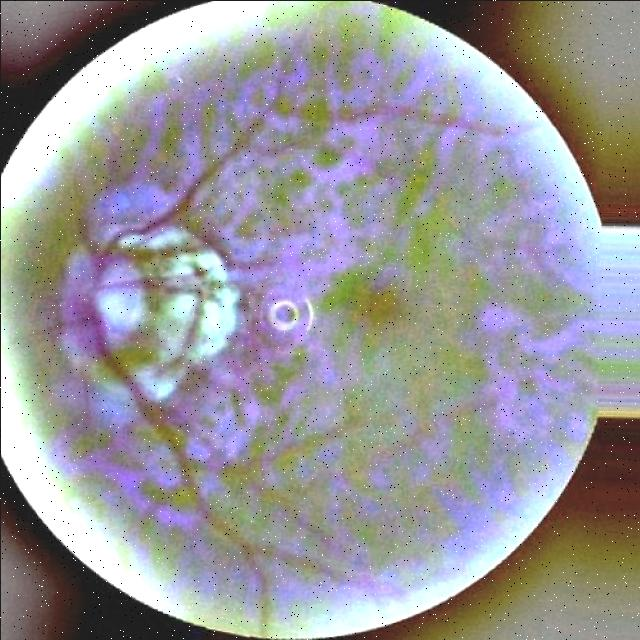Macula: (254, 285, 318, 342)
Nerves: (101, 357, 354, 601), (110, 71, 284, 243), (26, 199, 105, 352)
Optic Disk: (94, 224, 240, 401)
